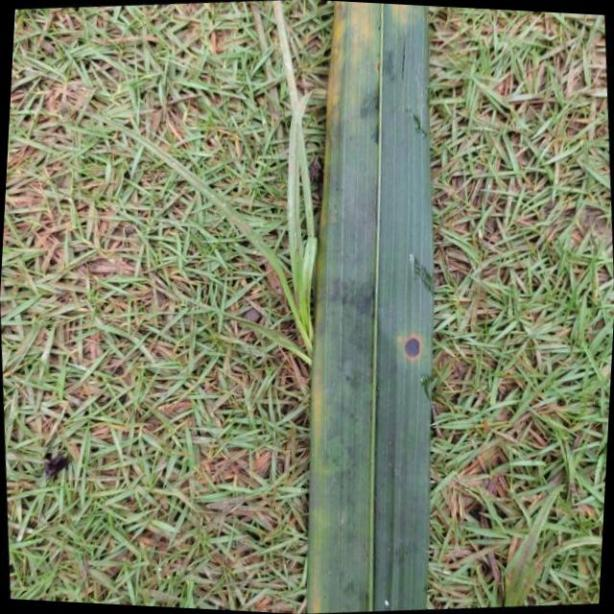Megnesium: (313, 0, 435, 614)
